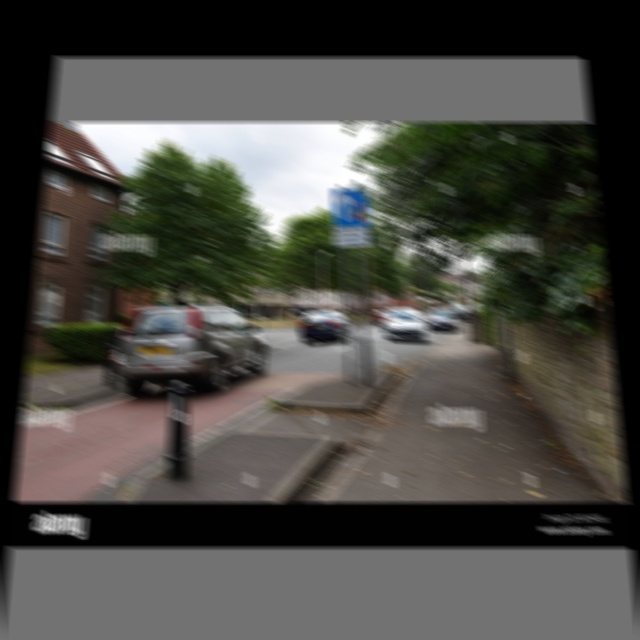Priority_for_Oncoming_Traffic: (332, 187, 370, 227)
